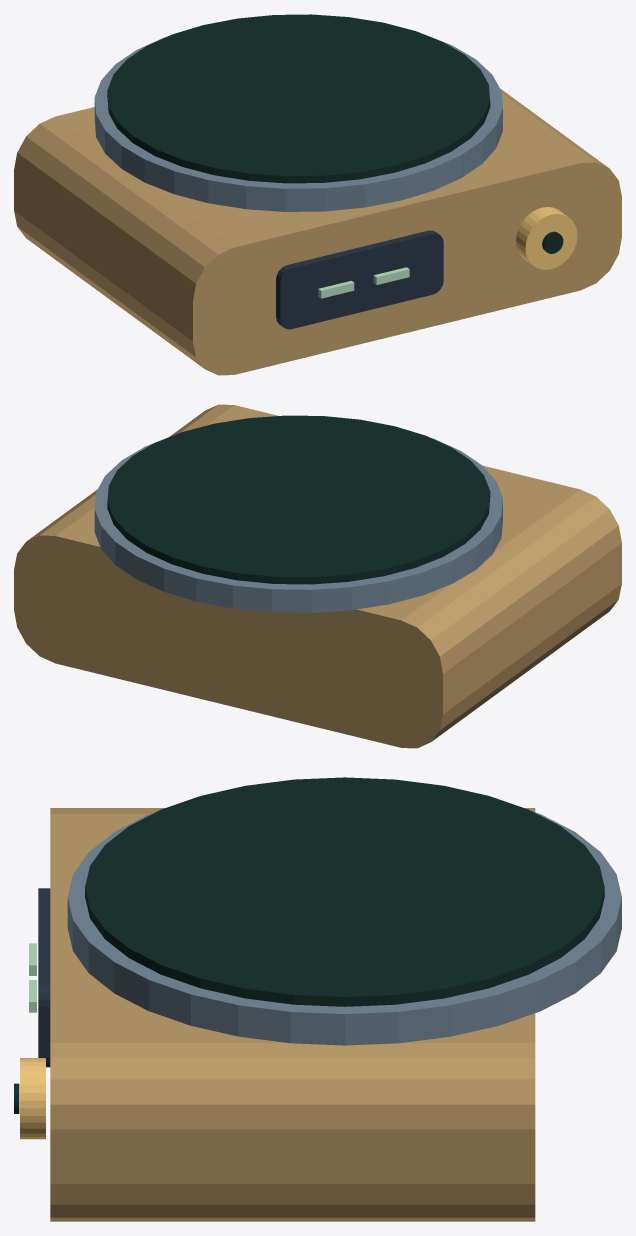
The model's file is scale.glb.
3 renders of one model, top to bottom at view 1: azimuth 30°, elevation 25°; view 2: azimuth 150°, elevation 25°; view 3: azimuth 270°, elevation 25°, orthographic. The views are drawn at different scales.
Parts seen in each view (by area): view 1: base, plate face, weighing plate, screen, tare key; view 2: base, plate face, weighing plate; view 3: base, plate face, weighing plate, screen, tare key.
Boxes of the visible parts, x1,y1,x2,y2 form: base: (14,32,621,375); plate face: (107,14,490,183); weighing plate: (94,35,502,211); screen: (276,230,443,329); tare key: (516,207,577,269); base: (14,404,621,748); plate face: (107,415,490,584); weighing plate: (94,438,502,612); base: (50,808,535,1221); plate face: (85,777,604,1006); weighing plate: (67,811,621,1045); screen: (38,888,50,1067); tare key: (20,1058,45,1139).
Bounding box in the file's own units: 1.55 × 0.545 × 1.4.
